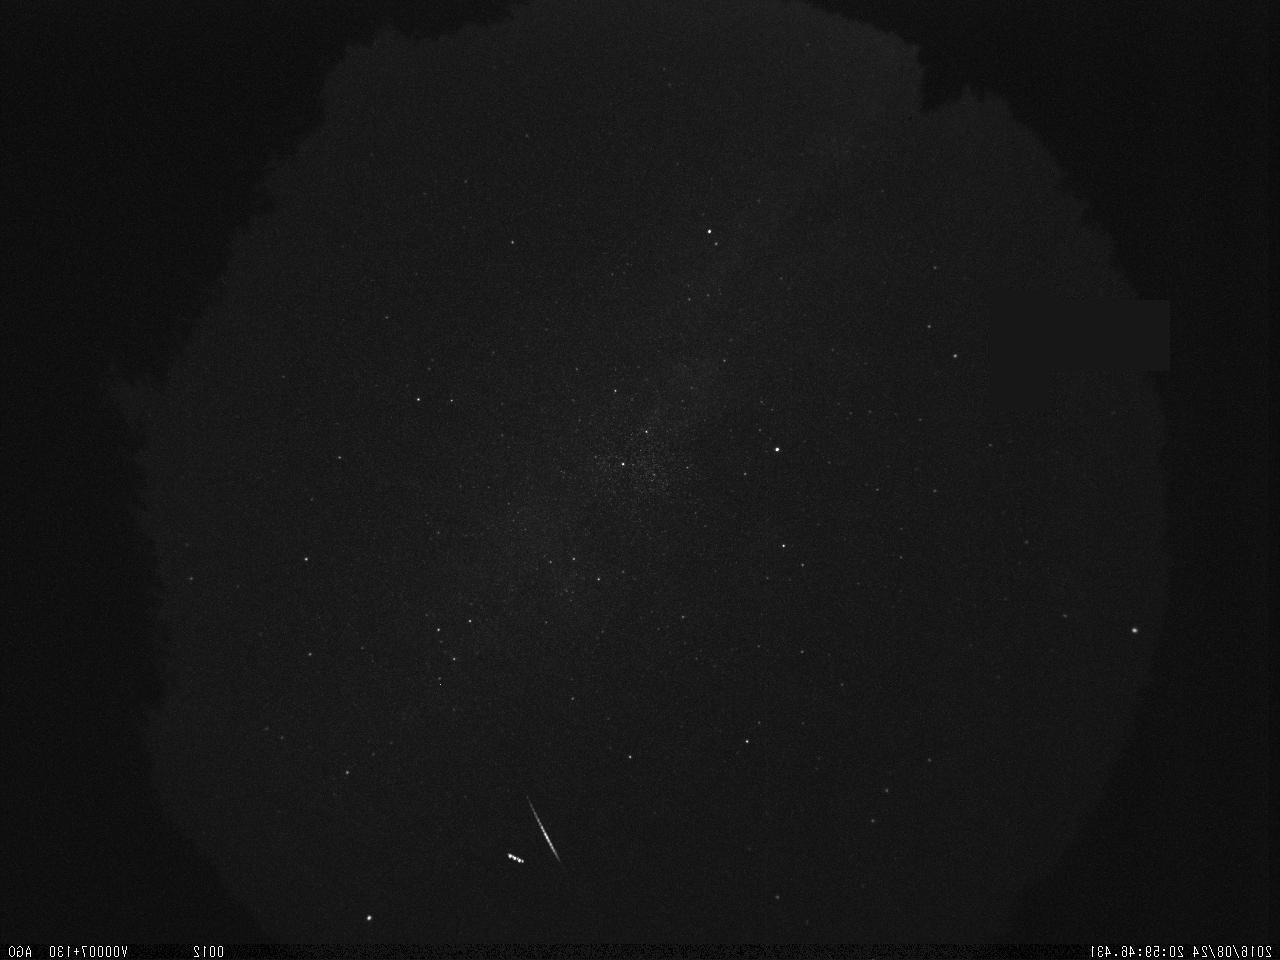meteor: (519, 784, 572, 875)
satelite: (497, 847, 534, 870)
